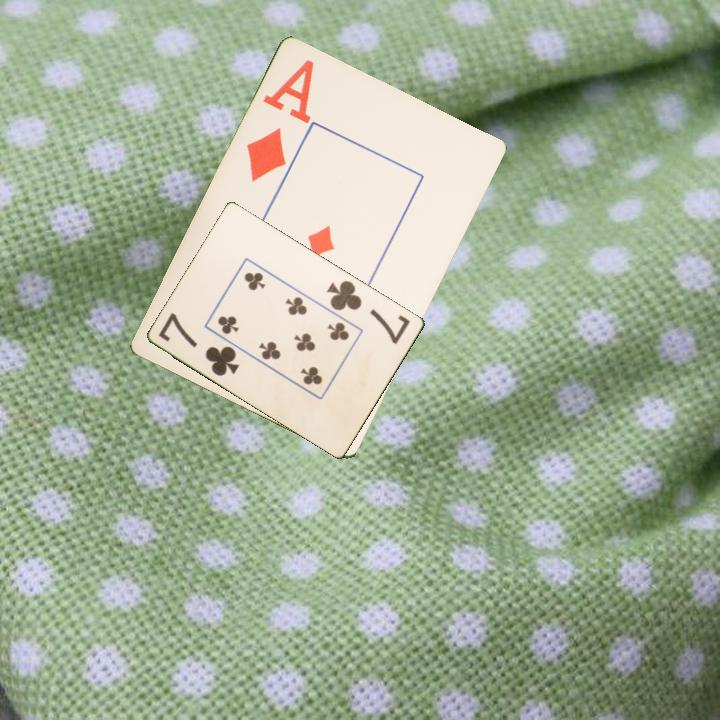7c: (323, 277, 414, 347), (155, 309, 243, 379)
Ad: (243, 56, 318, 186)
